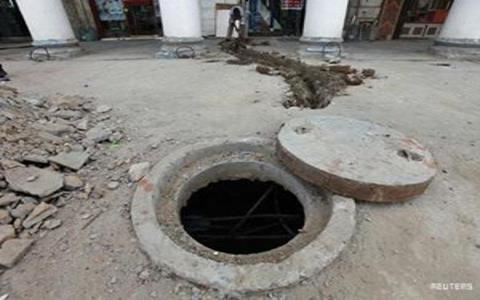open manhole: (168, 153, 311, 270)
